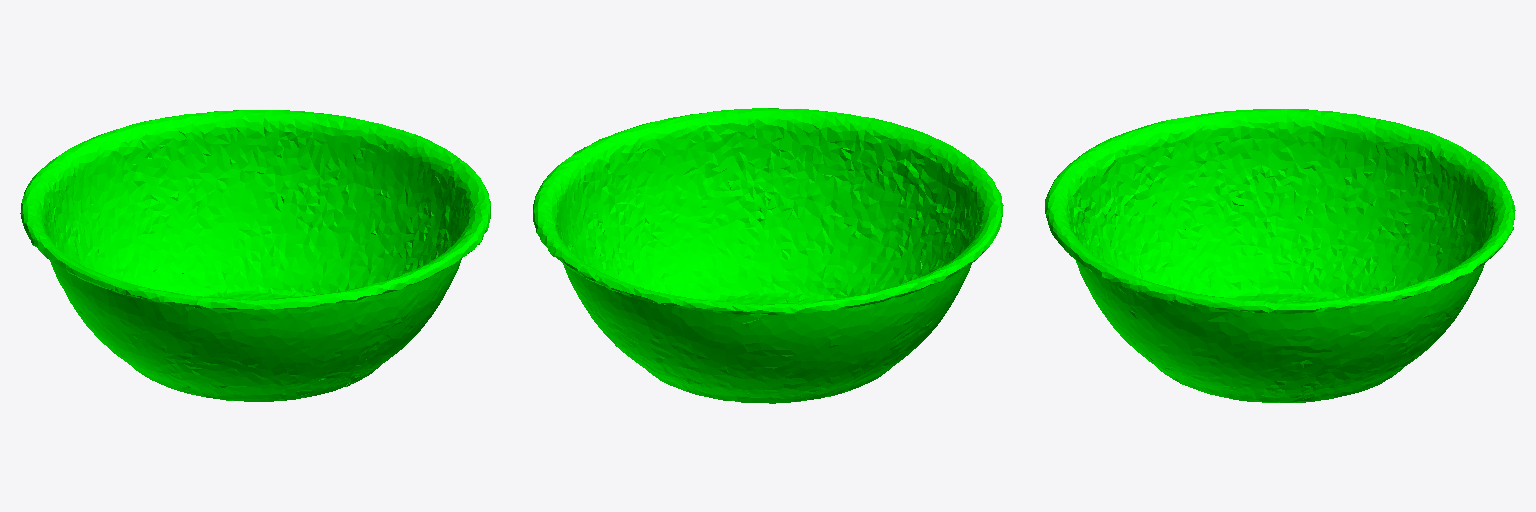
URDF robot description (bowl_green):
<robot name="bowl_green">
	<link name="_name">
		<visual>
			<origin xyz="0.1474002972935411 0.4386218798850483 -0.54479" rpy="0 0 0" />
			<geometry>
				<mesh filename="bowl_green/nontextured.obj" scale="10 10 10" />
			</geometry>
			<material name="green_color">
                <color rgba="0.0 1.0 0.0 1.0" />
			</material>
		</visual>
		<collision>
			<geometry>
				<mesh filename="bowl_green/nontextured_vhacd.obj" scale="10 10 10" />
			</geometry>
			<origin xyz="0.1474002972935411 0.4386218798850483 -0.54479" rpy="0 0 0" />
		</collision>
		<inertial>
			<mass value="1.0" />
			<inertia ixx="1.0" ixy="0.0" ixz="0.0" iyy="1.0" iyz="0.0" izz="1.0" />
		</inertial>
	</link>
</robot>

--- Facts derived from the render (not from the file) ---
The picture shows the robot from 3 angles, left to right: view 1: azimuth 30°, elevation 25°; view 2: azimuth 150°, elevation 25°; view 3: azimuth 270°, elevation 25°; orthographic projection.
Robot: bowl_green — 1 links, 0 joints (none); root link _name; default pose: every joint at zero.
Visible links, largest first — view 1: _name; view 2: _name; view 3: _name.
Boxes of the visible links, x1,y1,x2,y2 form: _name: [20, 110, 490, 401]; _name: [533, 108, 1003, 403]; _name: [1045, 109, 1515, 402].
Bounding box of the posed robot: 1.61 × 1.61 × 0.5501 m (x, y, z).
1 mesh visuals loaded from 1 distinct referenced files (1 OBJ).